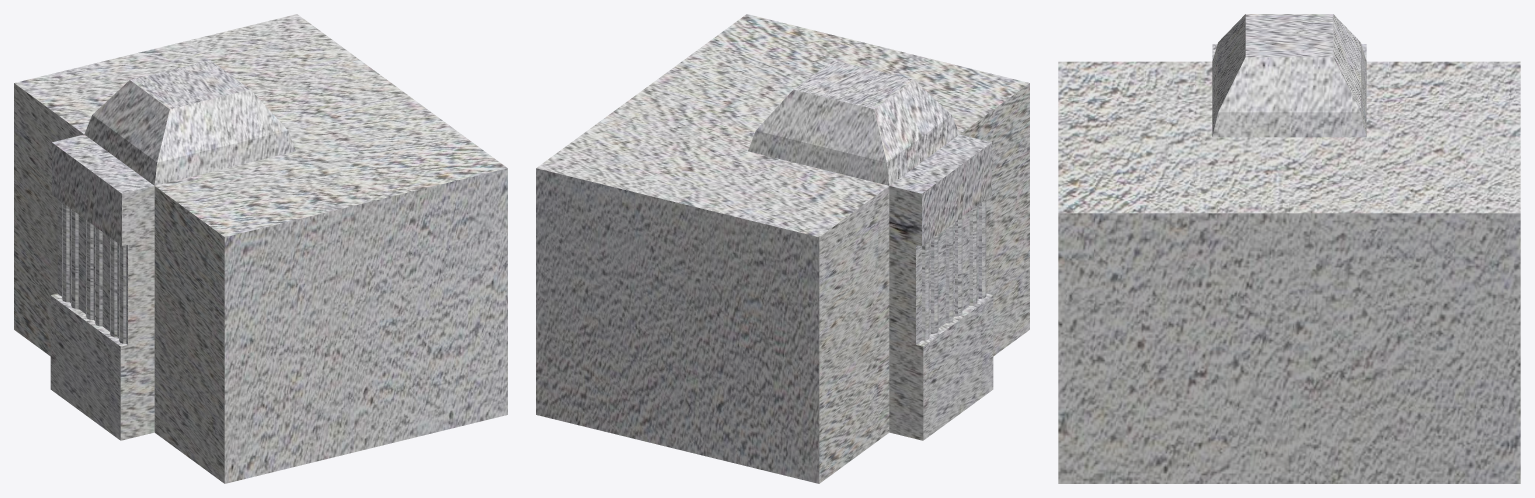
File: CCK-OLD.gltf
The picture shows the model from 3 angles, left to right: view 1: azimuth 30°, elevation 25°; view 2: azimuth 150°, elevation 25°; view 3: azimuth 270°, elevation 25°; orthographic projection. The views are drawn at different scales.
Parts seen in each view (by area): view 1: CCK; view 2: CCK; view 3: CCK.
Boxes of the visible parts, x1,y1,x2,y2 form: CCK: (14, 14, 507, 483); CCK: (536, 14, 1029, 483); CCK: (1058, 14, 1520, 483).
Size of the model in its own units: 0.958 by 0.8807 by 1.1.
Materials: 1 (1 with a texture image).
